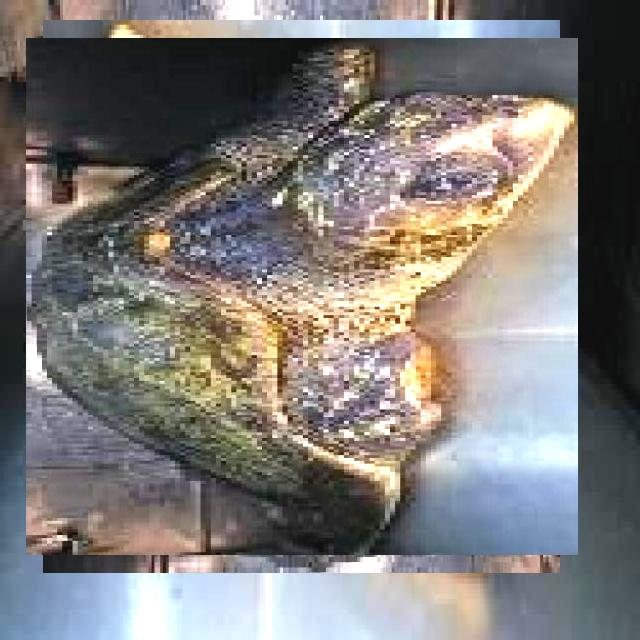Sea turtle: (34, 29, 569, 564)
